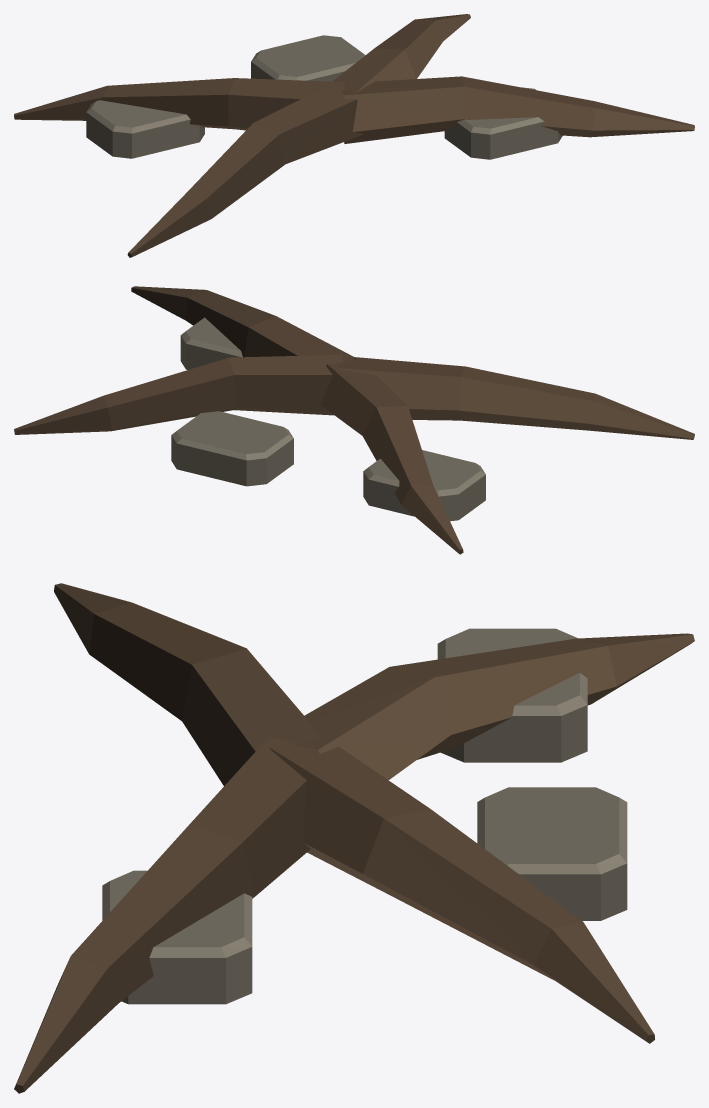
Rendered from roots_through_floor.glb.
3 views of the same model, one above another, from view 1: azimuth 30°, elevation 25°; view 2: azimuth 150°, elevation 25°; view 3: azimuth 270°, elevation 25° (orthographic). The views are drawn at different scales.
Parts seen in each view (by area): view 1: Body_roots_through_floor.001; view 2: Body_roots_through_floor.001; view 3: Body_roots_through_floor.001.
Boxes of the visible parts, box(x1,y1,x2,y2) form: Body_roots_through_floor.001: box(14, 14, 694, 257); Body_roots_through_floor.001: box(14, 286, 694, 554); Body_roots_through_floor.001: box(14, 583, 694, 1093).
Bounding box in the file's own units: 3.01 × 0.293 × 1.73.
